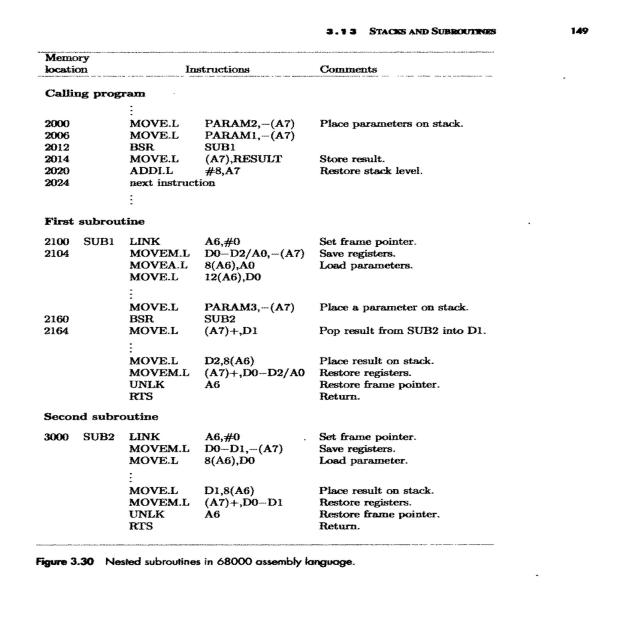diagram: (15, 43, 541, 585), (639, 181, 640, 217)
